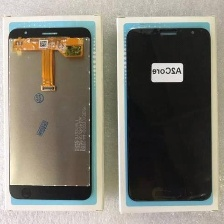phone: (121, 24, 215, 204), (5, 23, 96, 202)
